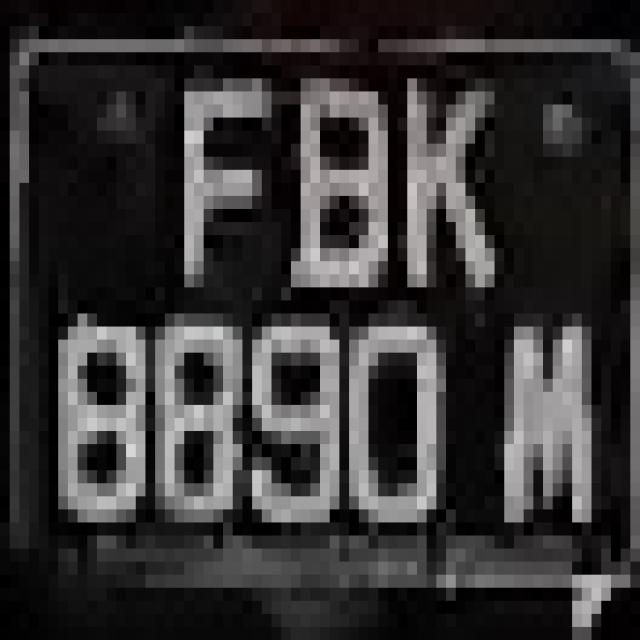0: (349, 287, 456, 575)
8: (20, 261, 156, 536), (136, 287, 252, 562)
9: (252, 287, 349, 548)
B: (272, 39, 408, 353)
F: (155, 52, 262, 314)
K: (358, 52, 524, 327)
M: (485, 274, 611, 575)
